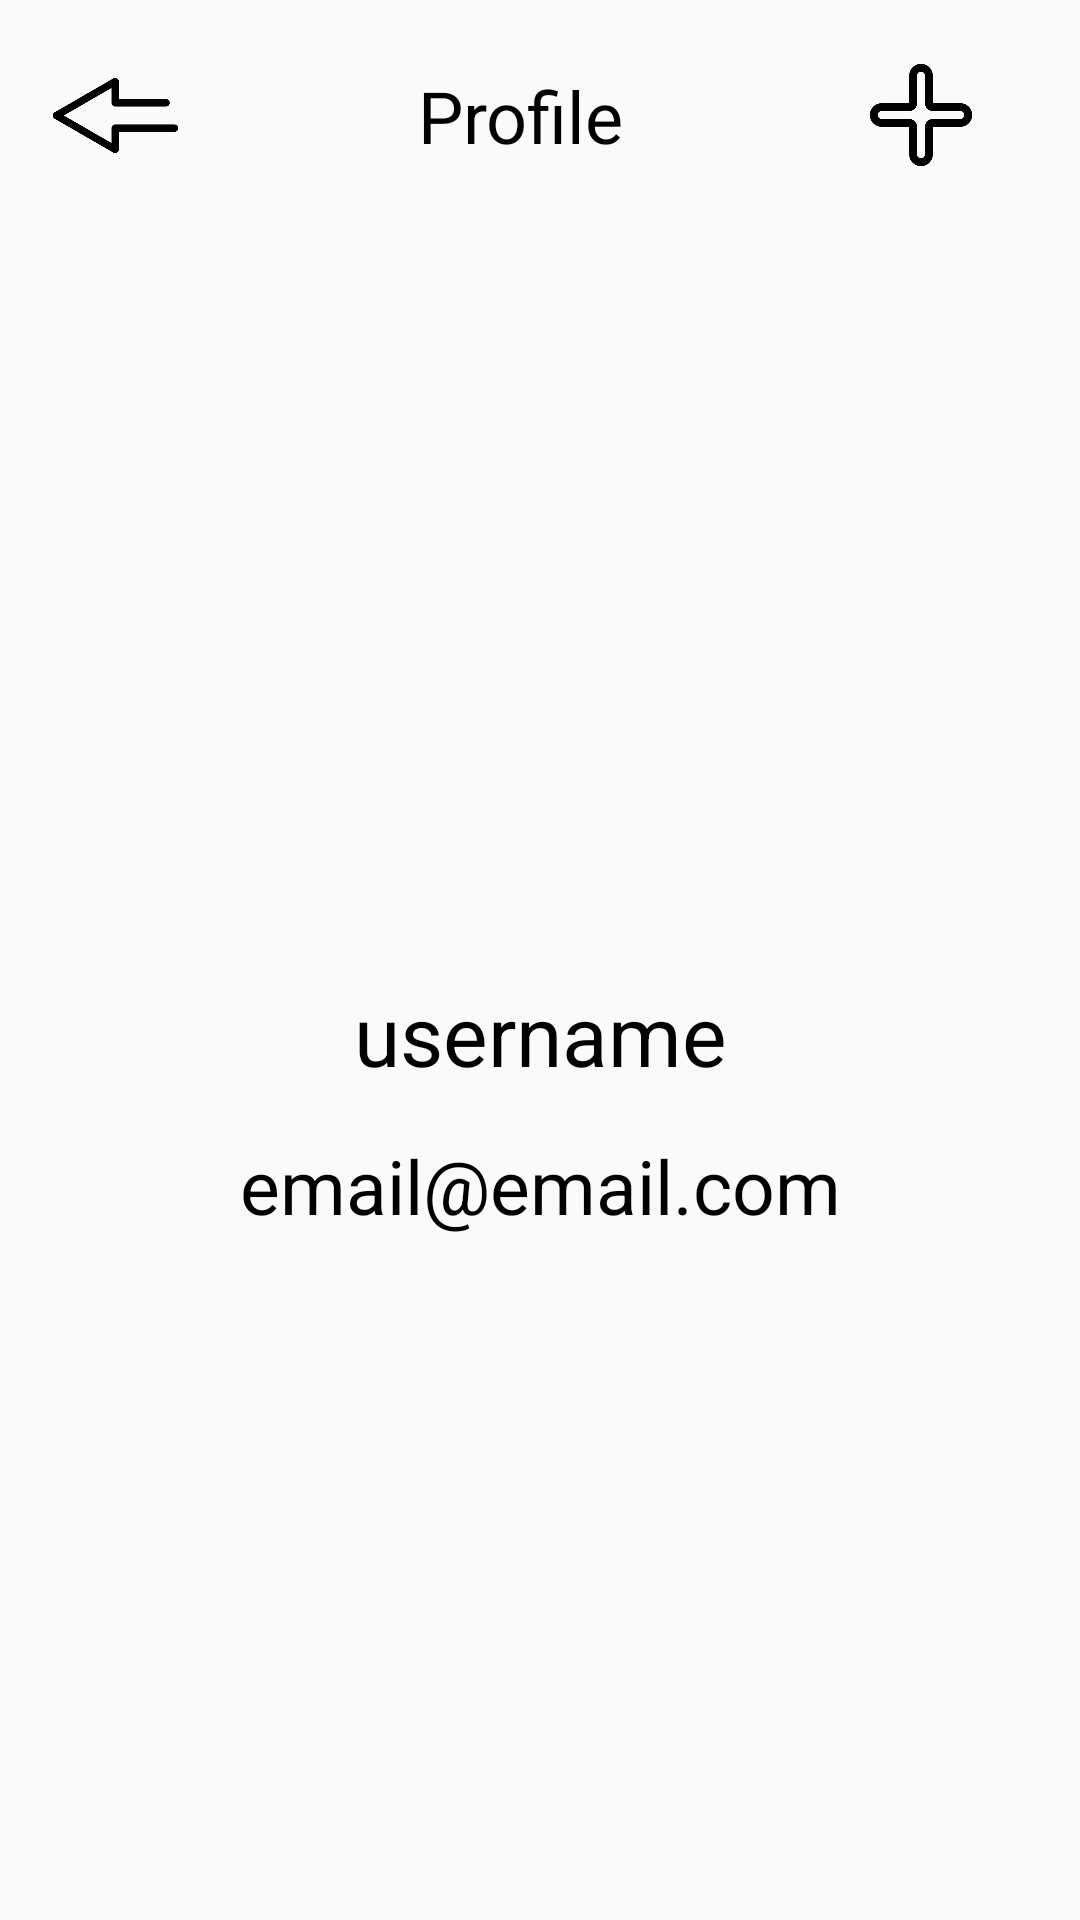

Screen size 1080px×1920px. Icon name, then its center in pixels as (x,y):
back: (115,115)
plus: (921,115)
